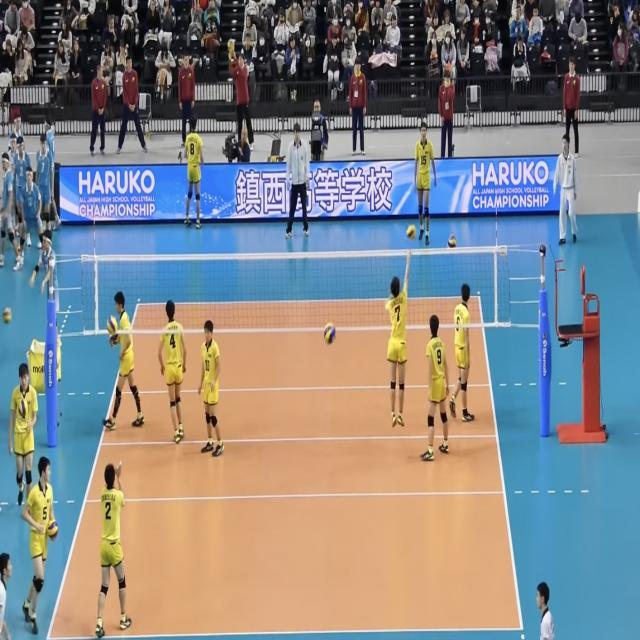spike: (380, 220, 416, 434)
